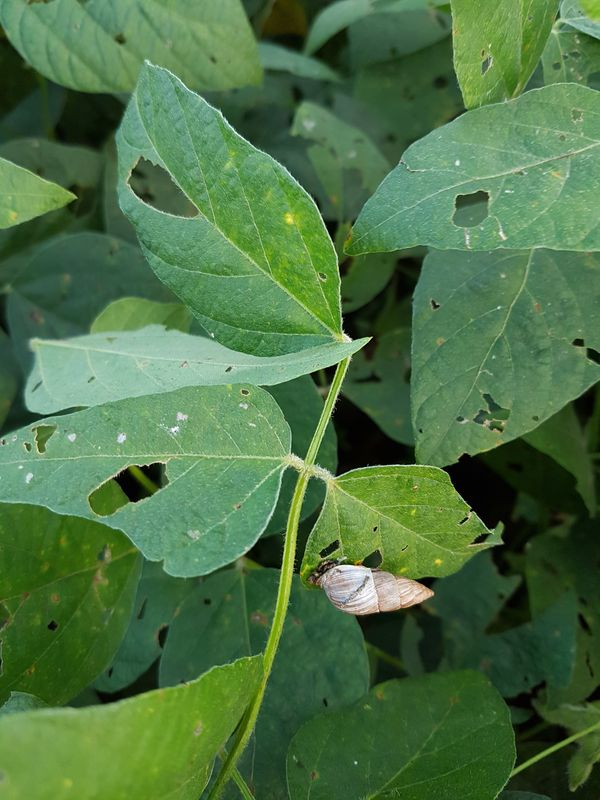Gastropoda: (297, 547, 444, 642)
